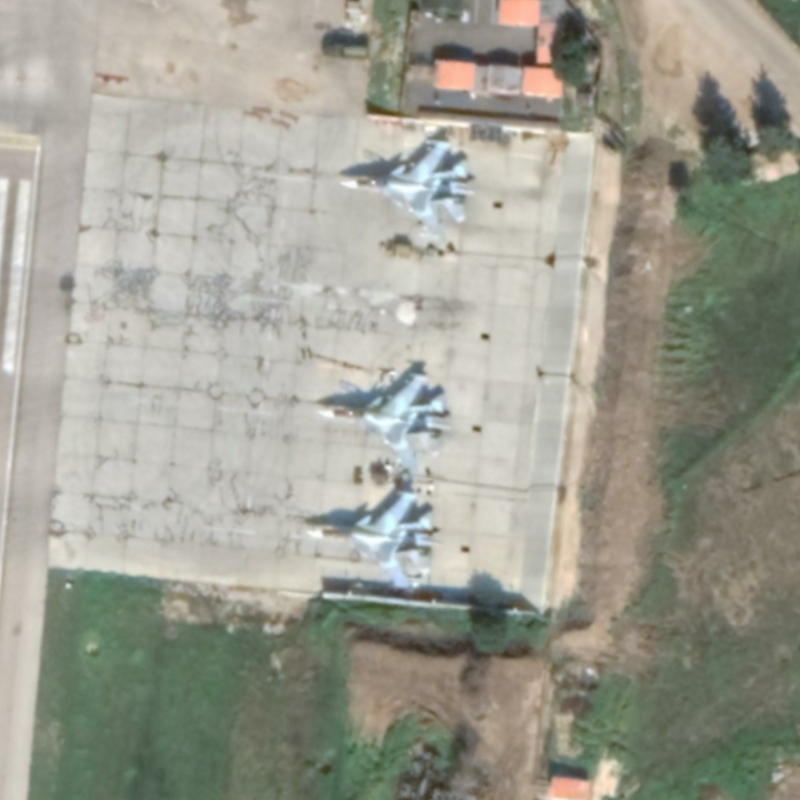A19: (315, 369, 452, 481), (301, 486, 440, 594), (337, 135, 475, 239)
